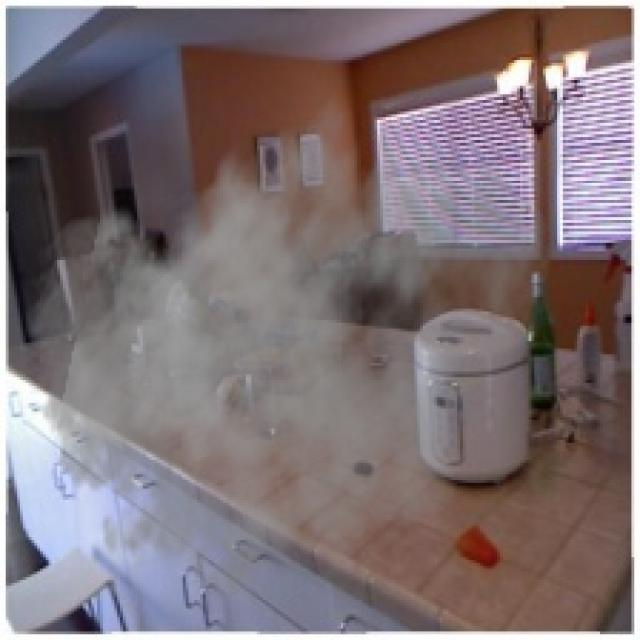smoke: (17, 74, 554, 617)
